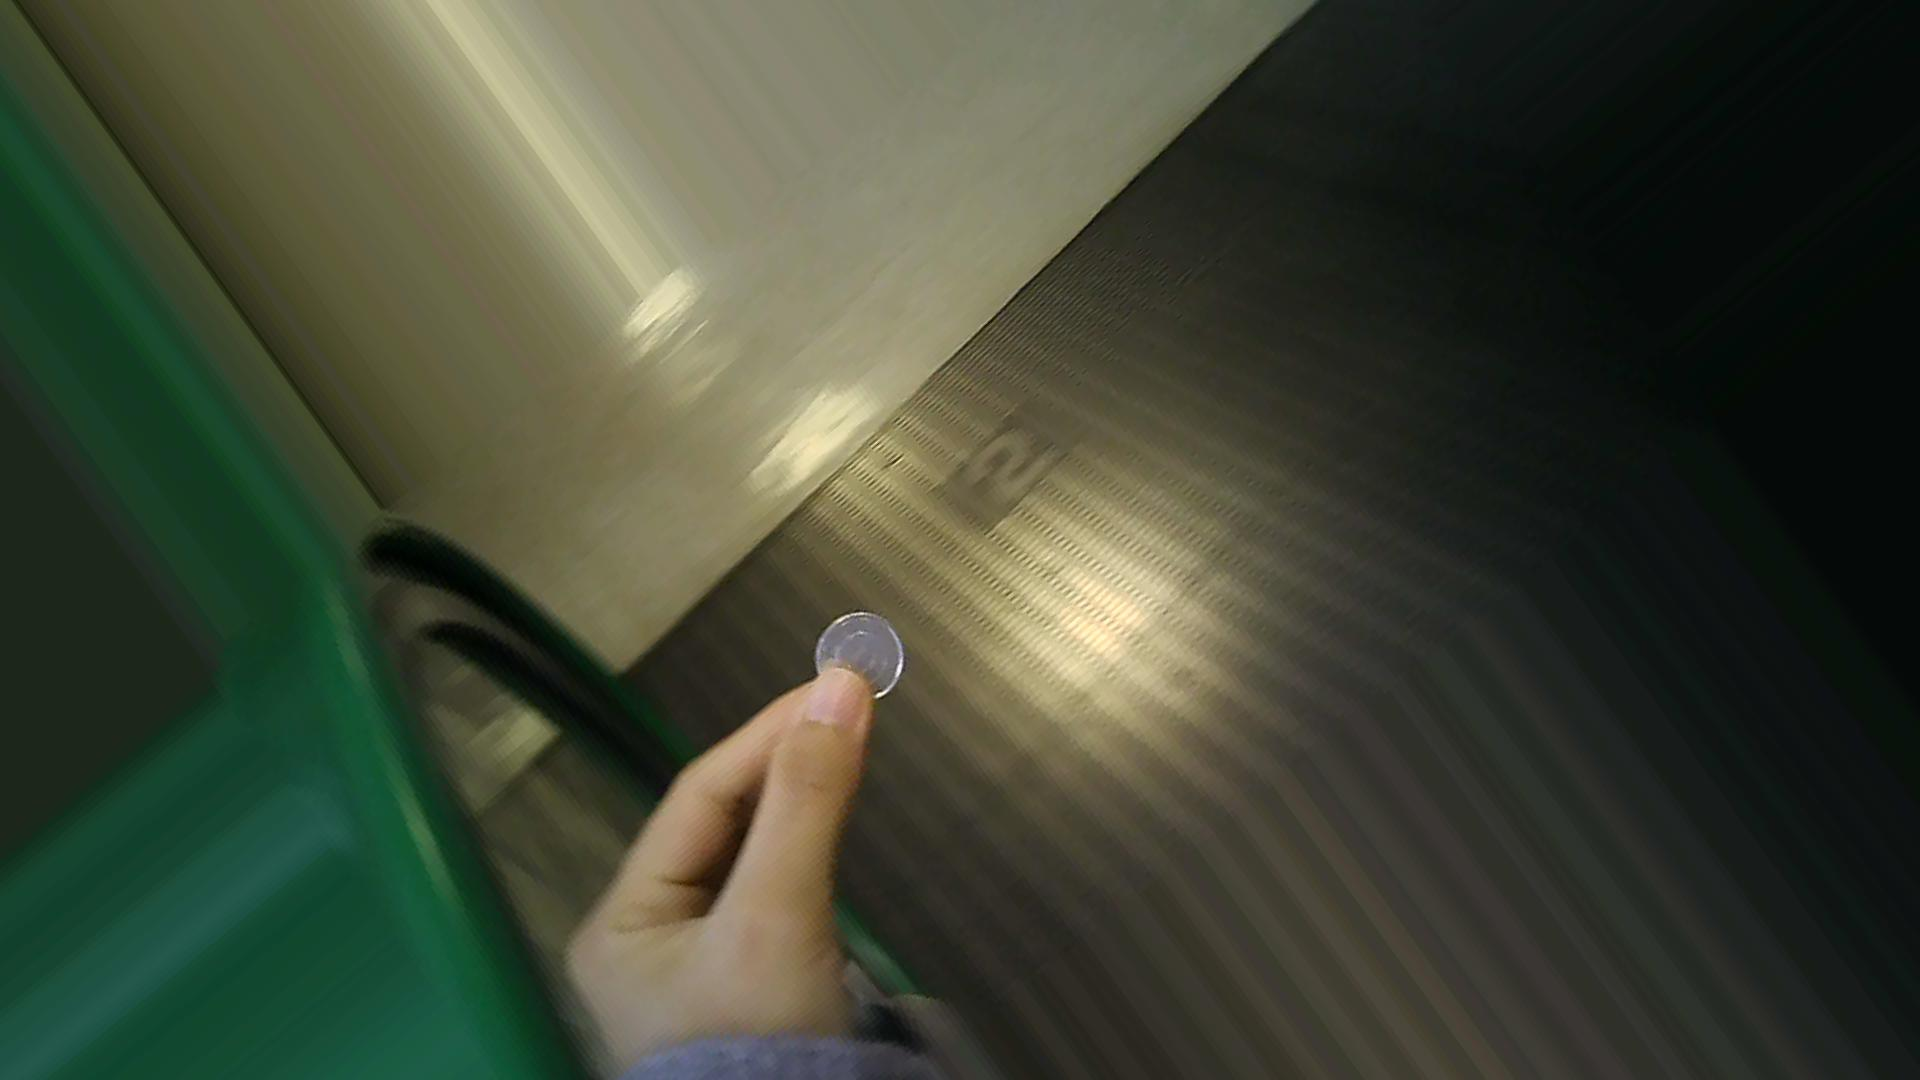1 Yen: (814, 615, 906, 694)
